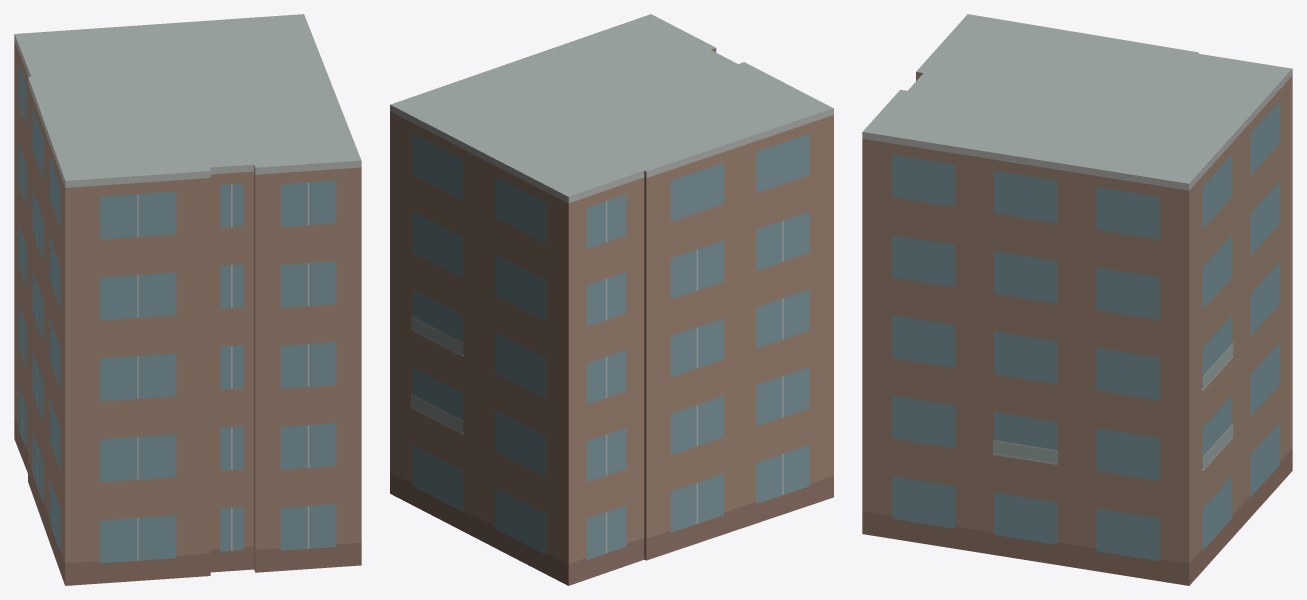
The model's file is survey-upis-32678005.glb.
3 views of the same model, side by side, from view 1: azimuth 30°, elevation 25°; view 2: azimuth 150°, elevation 25°; view 3: azimuth 270°, elevation 25° (orthographic). The views are drawn at different scales.
Parts seen in each view (by area): view 1: survey-upis-32678005.tmp; view 2: survey-upis-32678005.tmp; view 3: survey-upis-32678005.tmp.
Boxes of the visible parts, x1=… form: survey-upis-32678005.tmp: x1=14, y1=14, x2=361, y2=585; survey-upis-32678005.tmp: x1=390, y1=14, x2=833, y2=585; survey-upis-32678005.tmp: x1=862, y1=14, x2=1292, y2=585.
Bounding box in the file's own units: 13.05 × 14.4 × 13.97.
